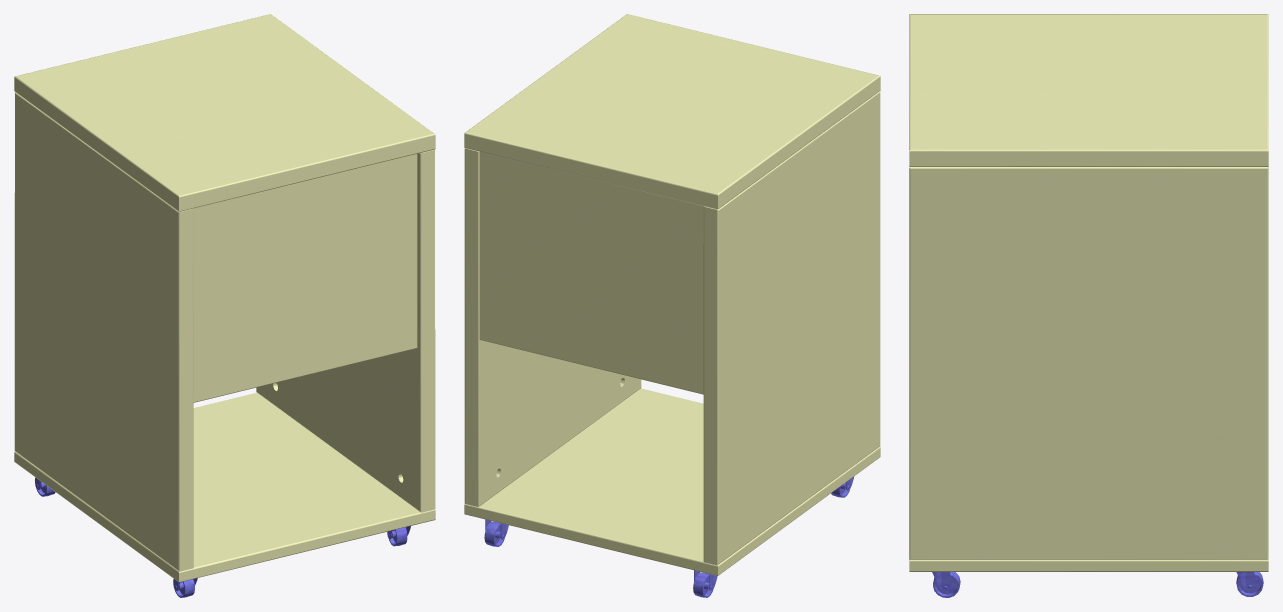
3 views of the same model, side by side, from view 1: azimuth 30°, elevation 25°; view 2: azimuth 150°, elevation 25°; view 3: azimuth 270°, elevation 25° (orthographic). The views are drawn at different scales.
Parts seen in each view (by area): view 1: e1c5aa51-a863-4e0e-83b5-a021e1b7234e, 5ff66c0c-0543-4352-93c3-95d29450e86a, b1fa9256-c1b6-4746-af74-8ba130d8e8cb; view 2: e1c5aa51-a863-4e0e-83b5-a021e1b7234e, 5ff66c0c-0543-4352-93c3-95d29450e86a, b1fa9256-c1b6-4746-af74-8ba130d8e8cb; view 3: e1c5aa51-a863-4e0e-83b5-a021e1b7234e, 5ff66c0c-0543-4352-93c3-95d29450e86a, b1fa9256-c1b6-4746-af74-8ba130d8e8cb.
Boxes of the visible parts, x1=… form: e1c5aa51-a863-4e0e-83b5-a021e1b7234e: x1=15, y1=14, x2=433, y2=569; 5ff66c0c-0543-4352-93c3-95d29450e86a: x1=14, y1=14, x2=435, y2=582; b1fa9256-c1b6-4746-af74-8ba130d8e8cb: x1=35, y1=477, x2=410, y2=597; e1c5aa51-a863-4e0e-83b5-a021e1b7234e: x1=466, y1=14, x2=879, y2=563; 5ff66c0c-0543-4352-93c3-95d29450e86a: x1=464, y1=14, x2=880, y2=575; b1fa9256-c1b6-4746-af74-8ba130d8e8cb: x1=484, y1=476, x2=854, y2=597; e1c5aa51-a863-4e0e-83b5-a021e1b7234e: x1=910, y1=14, x2=1267, y2=558; 5ff66c0c-0543-4352-93c3-95d29450e86a: x1=909, y1=14, x2=1268, y2=571; b1fa9256-c1b6-4746-af74-8ba130d8e8cb: x1=932, y1=572, x2=1263, y2=597.
Size of the model in its own units: 0.4496 by 0.7 by 0.4995.
2 materials, 2 textured.
